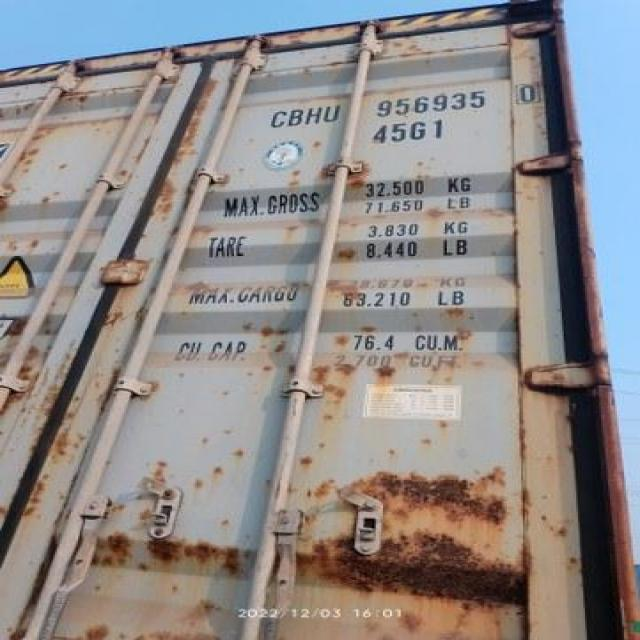ISO: (373, 119, 447, 143)
container_number: (272, 87, 538, 128)
